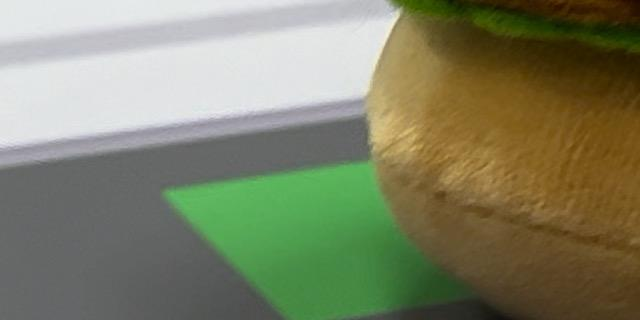burger: (314, 0, 640, 320)
